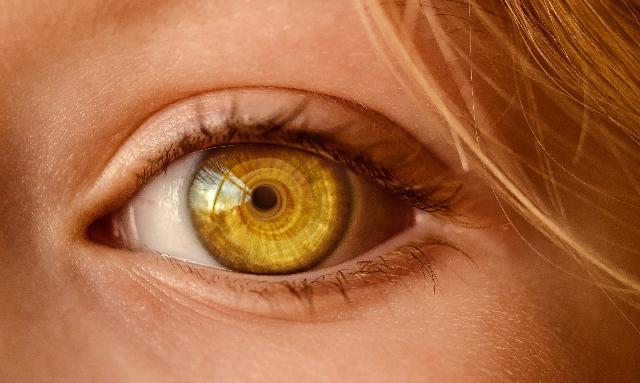eye: (191, 139, 357, 273)
